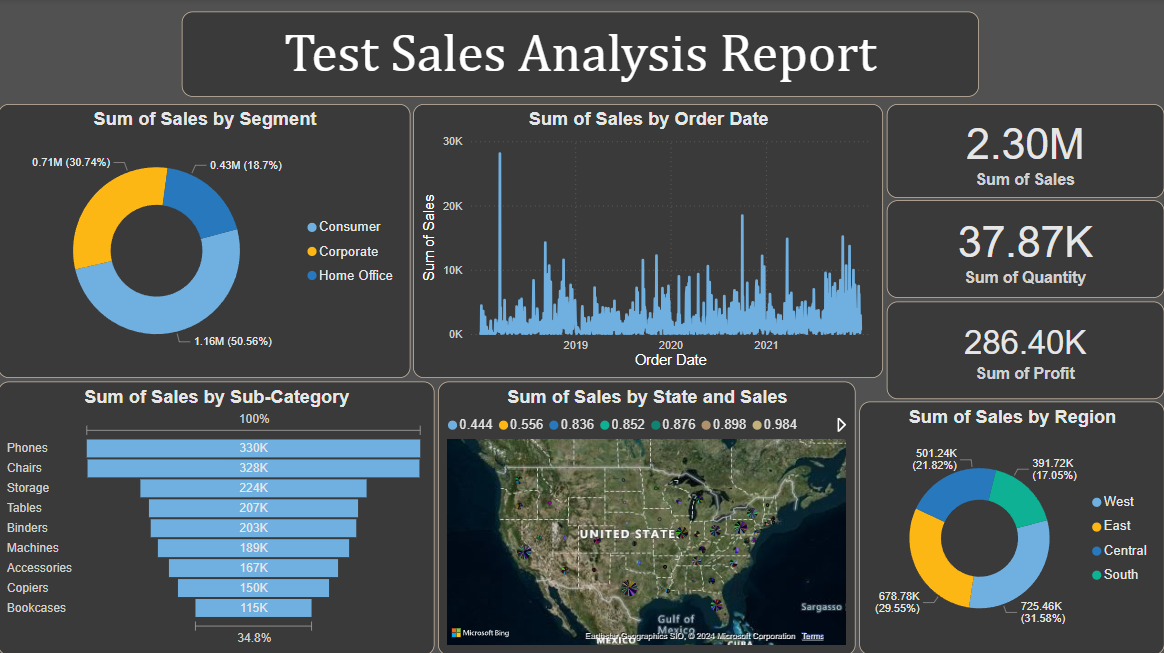

The page's visual inventory and layout, read from the dashboard file:
{"tool":"powerbi","page":{"name":"Test Sales Analysis Report","canvas":[1280,720],"ordinal":0},"visuals":[{"type":"donutChart","fields":{"Category":["Test Sales Report xlsx - Orders.Region"],"Y":["Sum(Test Sales Report xlsx - Orders.Sales)"]},"box":[945.5,441.9,334.8,278.6],"z":0},{"type":"funnel","fields":{"Category":["Test Sales Report xlsx - Orders.Sub-Category"],"Y":["Sum(Test Sales Report xlsx - Orders.Sales)"]},"box":[0,419.9,478.9,300.5],"z":1000},{"type":"pieChart","fields":{"Category":["Test Sales Report xlsx - Orders.Segment"],"Y":["Sum(Test Sales Report xlsx - Orders.Sales)"]},"box":[0,115.3,452.8,300.5],"z":2000},{"type":"map","fields":{"Category":["Test Sales Report xlsx - Orders.State"],"Size":["Sum(Test Sales Report xlsx - Orders.Sales)"],"Series":["Test Sales Report xlsx - Orders.Sales"]},"box":[483,419.5,458.3,300.5],"z":3000},{"type":"lineChart","fields":{"Category":["Test Sales Report xlsx - Orders.Order Date"],"Y":["Sum(Test Sales Report xlsx - Orders.Sales)"]},"box":[455.6,115.3,516,300.5],"z":4000},{"type":"card","fields":{"Values":["Sum(Test Sales Report xlsx - Orders.Sales)"]},"box":[975.4,115.3,304.6,102.9],"z":5000},{"type":"card","fields":{"Values":["Sum(Test Sales Report xlsx - Orders.Profit)"]},"box":[975.4,332.1,304.6,107],"z":6000},{"type":"card","fields":{"Values":["Sum(Test Sales Report xlsx - Orders.Quantity)"]},"box":[975.4,220.9,304.6,107],"z":8000},{"type":"textbox","box":[201.7,13.7,875.5,93.3],"z":9000}]}

Visuals, with their boxes in screenshot pixels (x1, y1, x2, y2), scaled from the page's 1280x720 canvas onto the 1164x653 screenshot:
donutChart - Test Sales Report xlsx - Orders.Region x Sum(Test Sales Report xlsx - Orders.Sales): bbox=(860, 401, 1163, 652)
funnel - Test Sales Report xlsx - Orders.Sub-Category x Sum(Test Sales Report xlsx - Orders.Sales): bbox=(0, 381, 435, 652)
pieChart - Test Sales Report xlsx - Orders.Segment x Sum(Test Sales Report xlsx - Orders.Sales): bbox=(0, 105, 412, 377)
map - Test Sales Report xlsx - Orders.State x Sum(Test Sales Report xlsx - Orders.Sales): bbox=(439, 380, 856, 652)
lineChart - Test Sales Report xlsx - Orders.Order Date x Sum(Test Sales Report xlsx - Orders.Sales): bbox=(414, 105, 884, 377)
card - Sum(Test Sales Report xlsx - Orders.Sales): bbox=(887, 105, 1163, 198)
card - Sum(Test Sales Report xlsx - Orders.Profit): bbox=(887, 301, 1163, 398)
card - Sum(Test Sales Report xlsx - Orders.Quantity): bbox=(887, 200, 1163, 297)
textbox: bbox=(183, 12, 980, 97)
